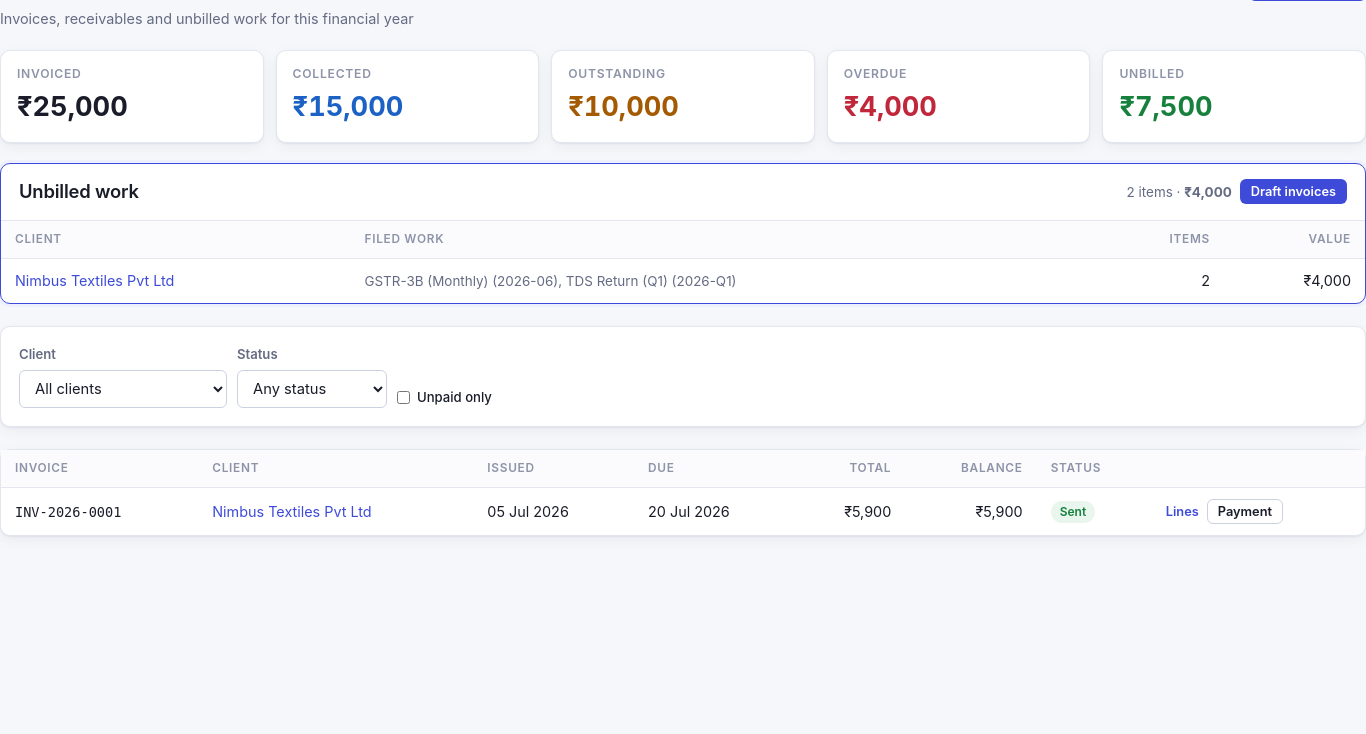
Billing — invoice lines › shows what is still owed once something has been paid
Click the button "Lines".
click(1182, 512)  # box [1166,504,1199,520]
(page scrolled)
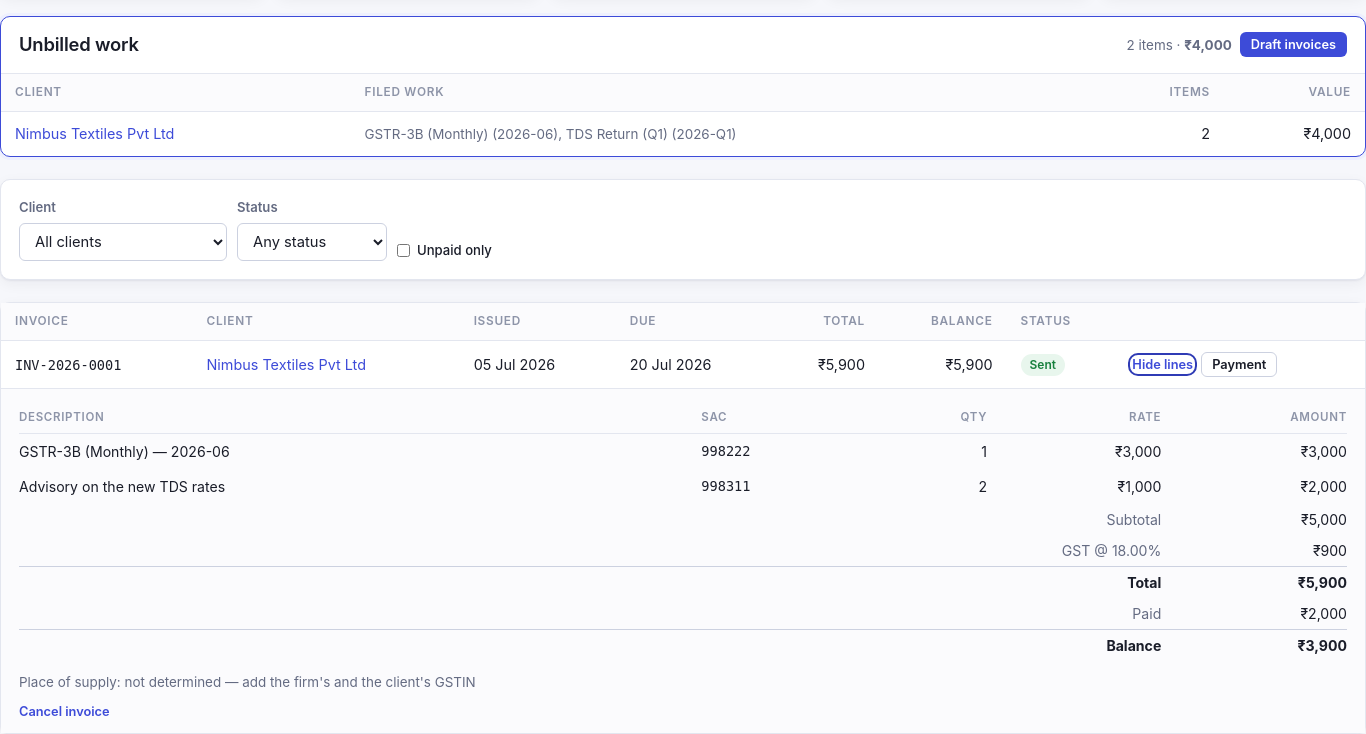
Check: the text "Paid" is shown, box [19,598,1171,630]
Check: the text "₹2,000" below "GST @ 18.00%" is shown, box [1300,605,1347,622]
Check: the text "Balance" is shown, box [19,630,1171,662]
